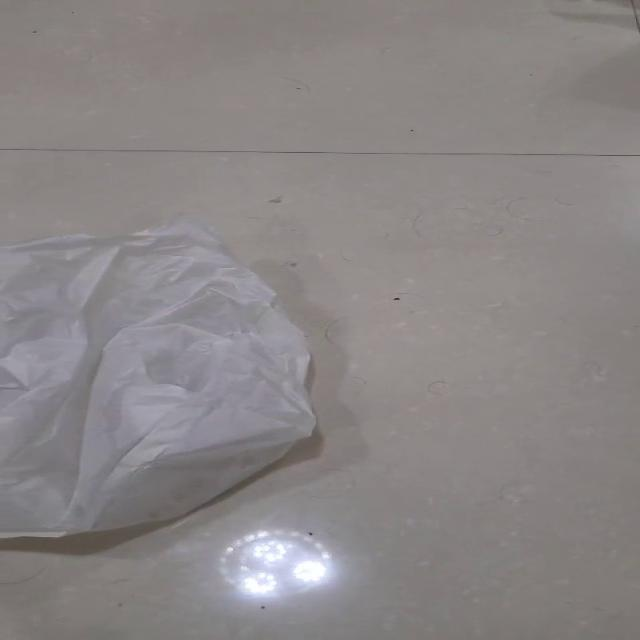plastic: (0, 214, 316, 535)
